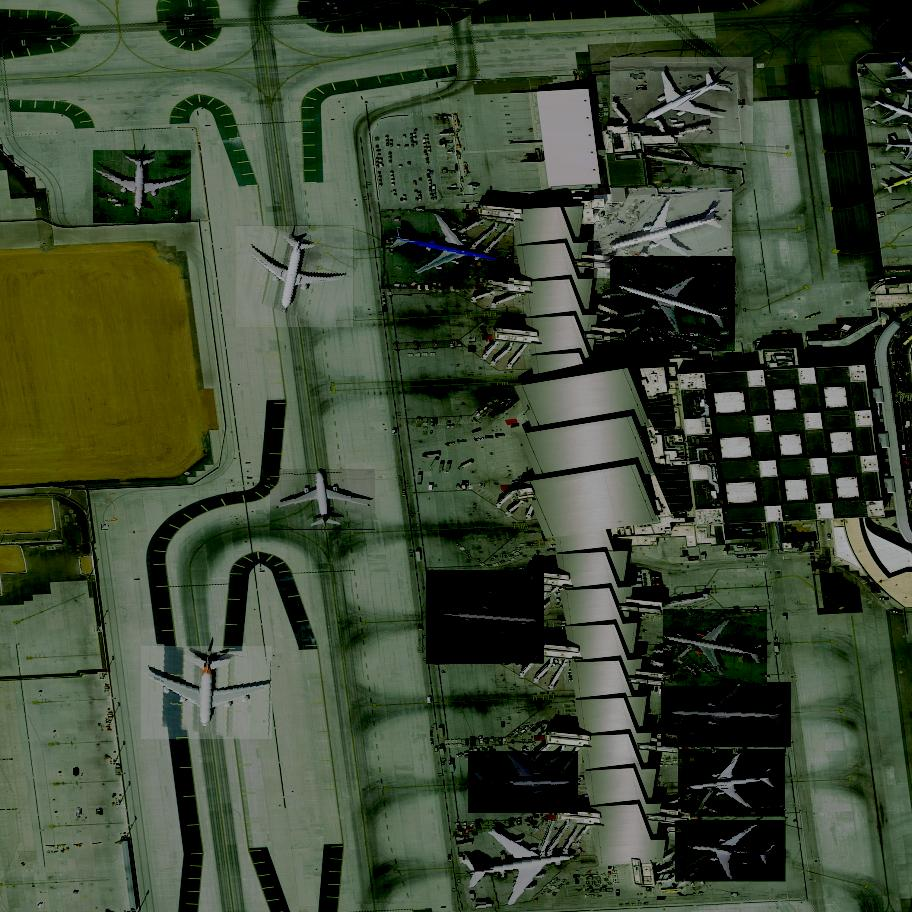large-vehicle: (903, 461, 912, 470), (905, 421, 911, 429)
plane: (610, 41, 753, 159), (132, 646, 278, 739), (600, 257, 742, 352), (594, 188, 733, 284), (231, 226, 357, 328), (420, 570, 550, 663), (382, 206, 515, 291), (653, 609, 774, 687), (661, 682, 791, 748), (85, 150, 195, 224), (678, 749, 785, 820), (468, 751, 579, 813), (676, 820, 785, 883), (270, 469, 375, 532)
small-vehicle: (692, 670, 701, 680), (523, 746, 532, 754), (469, 344, 477, 353), (708, 666, 718, 673), (657, 335, 667, 342), (37, 902, 45, 910), (699, 666, 708, 673), (727, 169, 737, 175), (821, 333, 832, 338), (646, 592, 657, 597), (497, 587, 506, 593), (826, 330, 835, 336), (557, 615, 564, 622), (457, 822, 464, 829), (96, 808, 103, 815), (635, 337, 642, 344), (636, 256, 643, 263), (645, 339, 652, 346), (640, 613, 646, 621), (76, 808, 82, 816), (413, 208, 425, 212), (739, 98, 745, 106), (721, 331, 730, 336), (463, 481, 470, 487), (433, 583, 439, 590), (503, 659, 509, 666), (103, 524, 109, 531), (890, 348, 896, 355), (641, 339, 647, 346), (446, 442, 456, 446), (517, 476, 527, 480), (536, 827, 544, 832), (637, 87, 647, 91), (701, 332, 711, 336), (733, 749, 739, 755), (656, 586, 665, 590), (657, 897, 664, 902), (73, 768, 78, 775), (383, 306, 388, 313), (450, 341, 455, 348), (894, 334, 901, 339), (730, 258, 737, 263), (512, 480, 520, 484), (831, 329, 839, 333), (427, 697, 432, 703), (470, 822, 475, 828), (579, 847, 584, 853), (514, 423, 520, 428), (433, 341, 438, 347), (392, 429, 397, 435), (695, 874, 700, 880), (891, 360, 896, 366), (711, 748, 716, 754), (903, 400, 907, 407), (480, 483, 485, 488), (554, 659, 559, 664), (906, 491, 911, 496), (692, 345, 697, 350), (503, 738, 507, 744), (495, 433, 503, 436), (897, 420, 901, 426), (661, 187, 669, 190), (737, 555, 745, 558), (898, 392, 905, 395), (669, 332, 676, 335), (691, 333, 698, 336), (469, 484, 473, 489), (905, 330, 910, 334), (900, 360, 904, 365), (904, 364, 908, 369), (901, 421, 905, 426), (650, 338, 655, 342), (706, 271, 711, 275), (488, 571, 497, 573), (478, 577, 487, 579), (859, 70, 862, 76), (897, 352, 900, 358), (896, 397, 899, 403), (654, 590, 663, 592), (592, 295, 601, 297), (501, 722, 505, 726), (448, 855, 452, 859), (116, 204, 124, 206), (687, 877, 691, 881), (601, 213, 605, 217), (541, 722, 549, 724), (652, 577, 660, 579), (732, 893, 737, 896), (897, 344, 900, 349), (566, 661, 569, 666), (486, 436, 493, 438), (108, 199, 115, 201), (663, 181, 670, 183), (642, 254, 649, 256), (681, 334, 688, 336), (479, 737, 483, 740), (647, 888, 651, 891), (175, 210, 178, 214), (471, 338, 475, 341), (710, 810, 716, 812), (893, 340, 896, 344), (456, 577, 461, 579), (906, 452, 908, 457), (900, 379, 903, 382), (419, 625, 421, 629), (608, 867, 616, 868), (560, 660, 562, 664), (459, 440, 465, 441), (900, 370, 902, 373), (905, 475, 907, 478), (726, 264, 728, 267), (750, 556, 755, 557), (479, 438, 481, 438)
